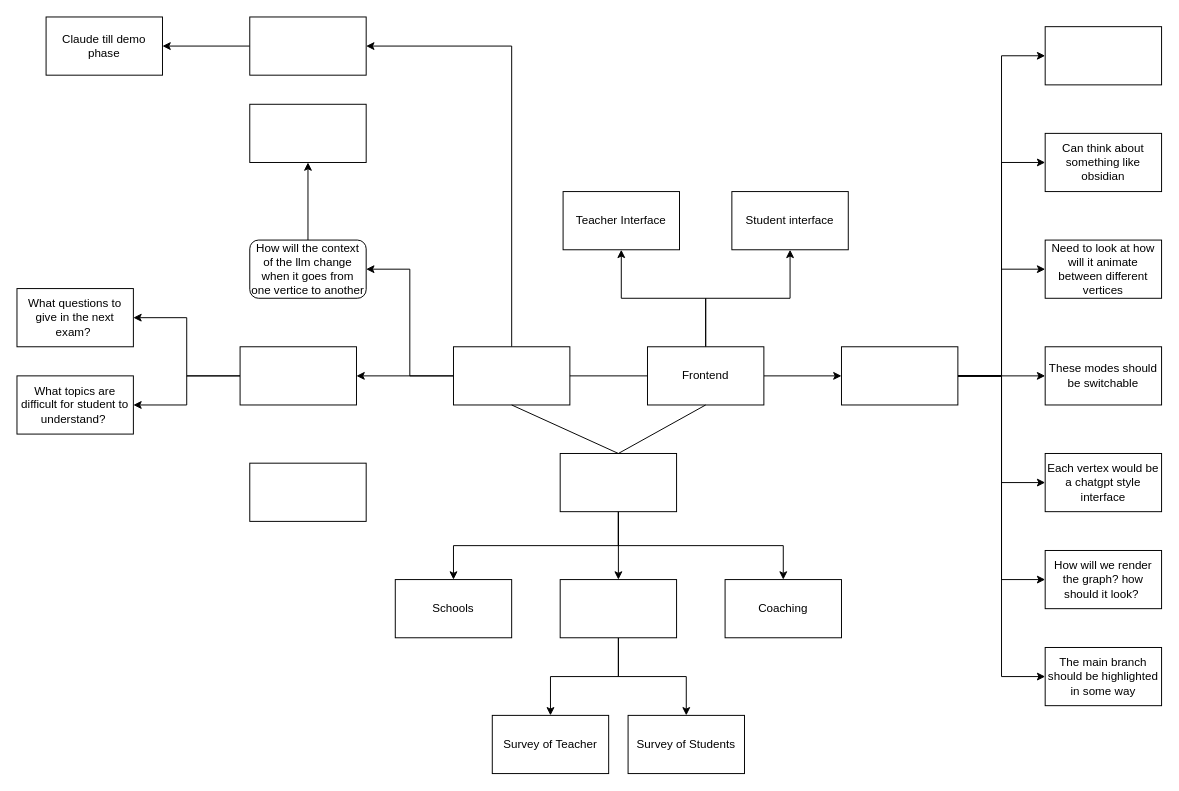
Image size: 1179x791. Some labels were removed from this diagram. The shapes that lost their labels are listed below. From the top down, each one's centre as x and y in pixels, then its label:
At (307,45): "Which model to use?".
At (307,132): "Caching by summarizing and storing each output".
At (297,375): "Inferences from the data collected".
At (511,375): "Backend".
At (899,375): "Graphical interface . instead of a chat".
At (307,491): "Add an tool for video searching".
At (618,482): "Business".
At (618,608): "Survey of actual consumer need".
